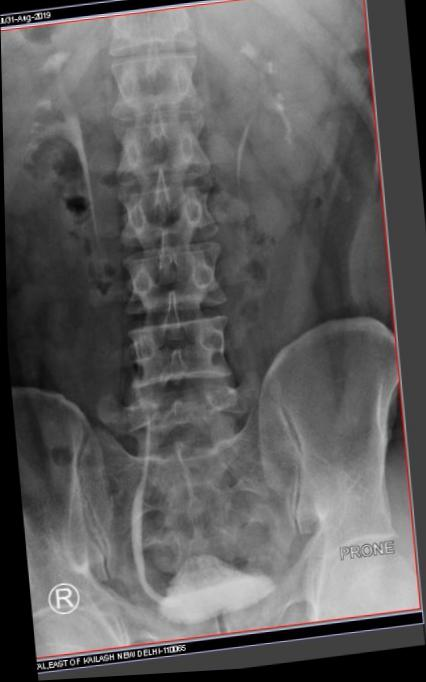bladder: (148, 554, 311, 655)
left kidney: (245, 0, 390, 201)
right kidney: (0, 23, 99, 215)
vertebrae: (124, 98, 239, 181)
